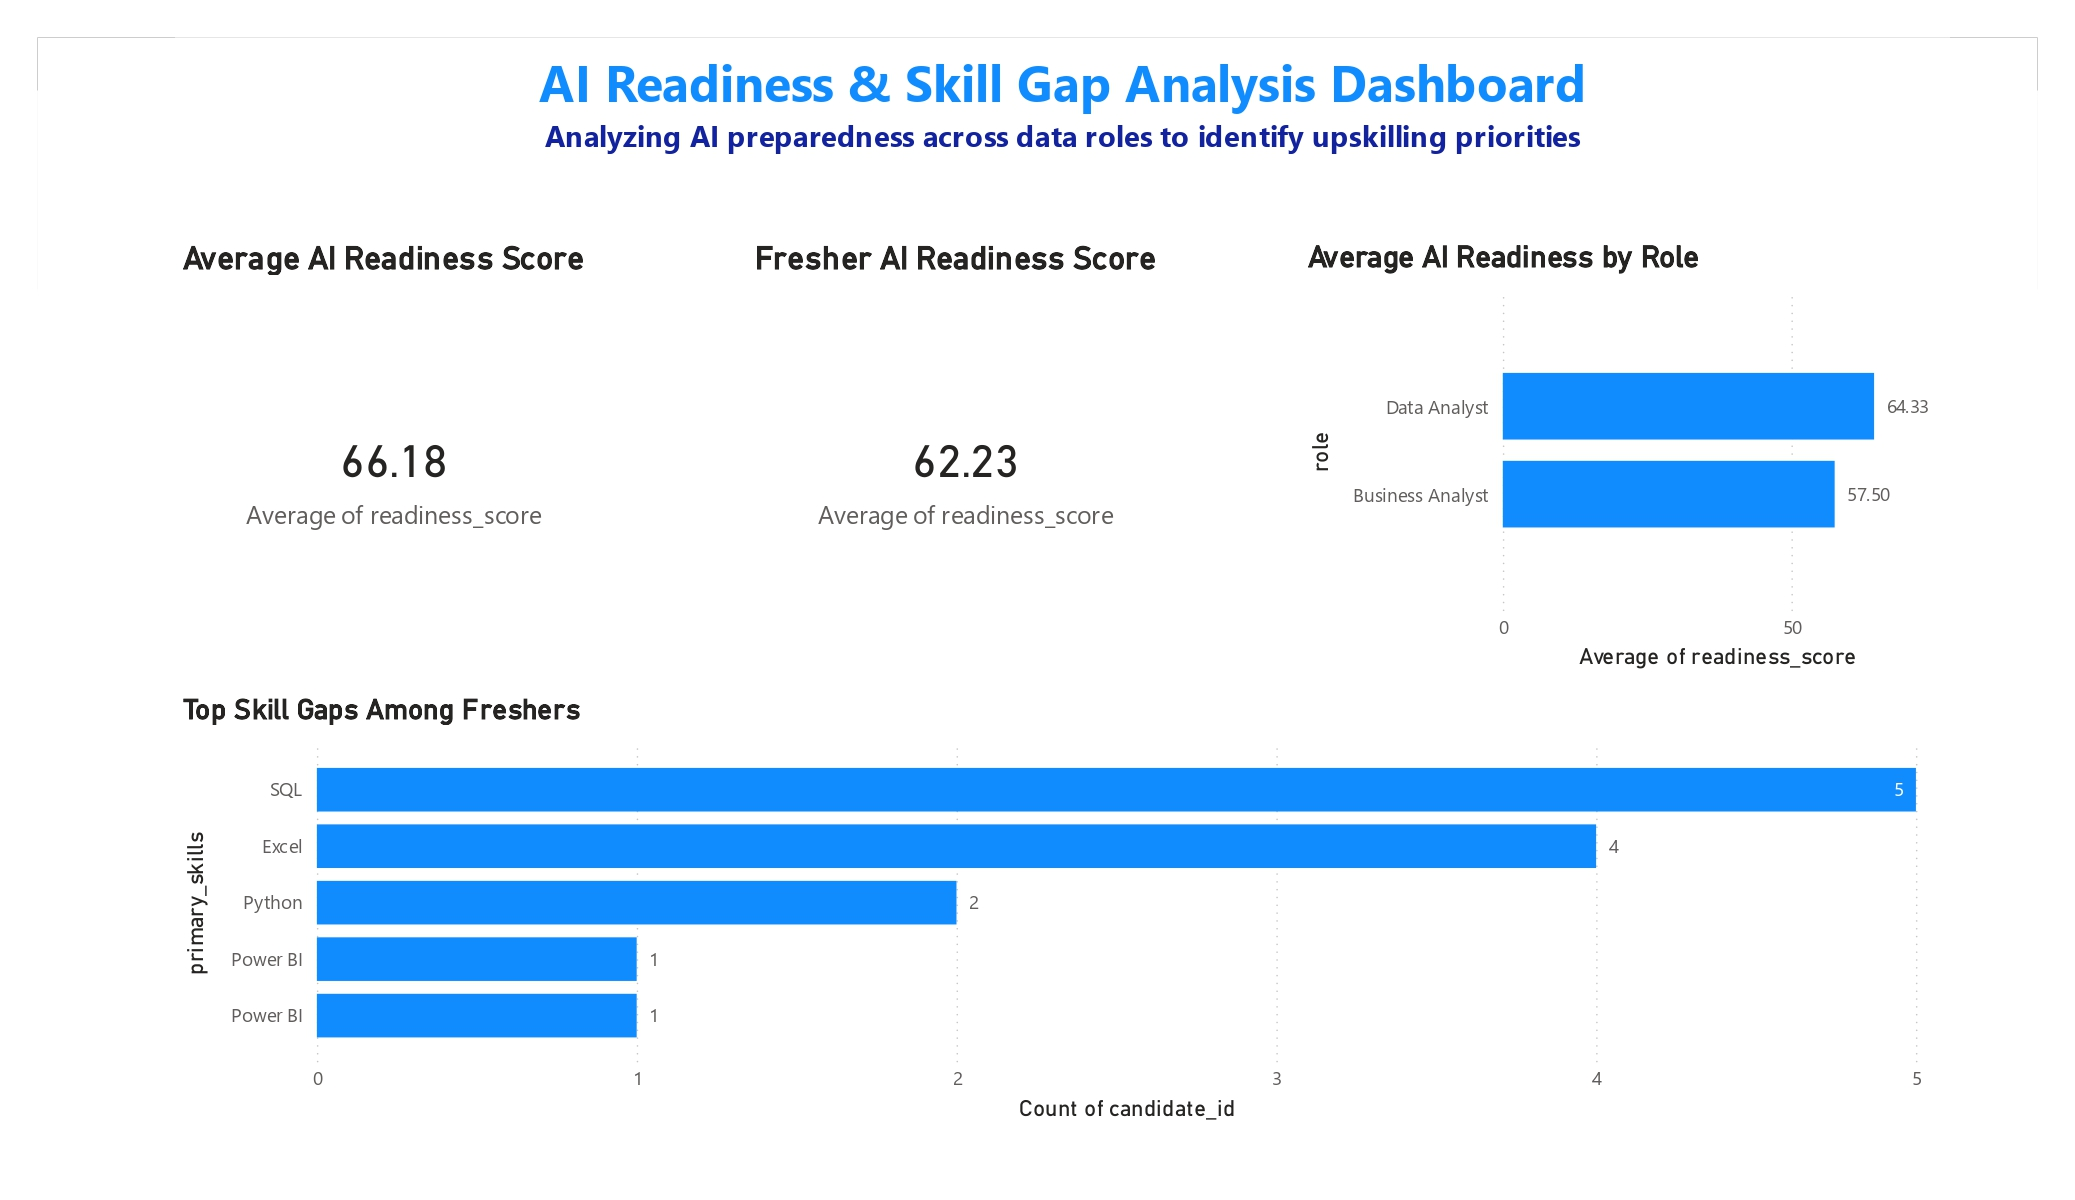

What the dashboard file says about the page in this screenshot:
{"tool":"powerbi","page":{"name":"Page 1","canvas":[1280,720],"ordinal":0},"visuals":[{"type":"card","title":"Average AI Readiness Score","fields":{"Values":["Avg(ai_readiness_skill_data.readiness_score)"]},"box":[87.8,129,279.9,279.9],"z":0},{"type":"card","title":"Fresher AI Readiness Score","fields":{"Values":["Avg(ai_readiness_skill_data.readiness_score)"]},"box":[454.2,129,279.9,279.9],"z":1000},{"type":"clusteredBarChart","title":"Average AI Readiness by Role","fields":{"Category":["ai_readiness_skill_data.role"],"Y":["Avg(ai_readiness_skill_data.readiness_score)"]},"box":[808.2,129,415.8,279.9],"z":1001},{"type":"textbox","box":[87.8,0,1136.2,94.7],"z":1002},{"type":"clusteredBarChart","title":"Top Skill Gaps Among Freshers","fields":{"Category":["ai_readiness_skill_data.primary_skills"],"Y":["CountNonNull(ai_readiness_skill_data.candidate_id)"]},"box":[87.8,418.5,1136.2,279.9],"z":1003}]}

Visuals, with their boxes in screenshot pixels (x1, y1, x2, y2):
"Average AI Readiness Score" card: (left=175, top=239, right=612, bottom=676)
"Fresher AI Readiness Score" card: (left=747, top=239, right=1185, bottom=676)
"Average AI Readiness by Role" clusteredBarChart: (left=1300, top=239, right=1950, bottom=676)
textbox: (left=175, top=38, right=1950, bottom=185)
"Top Skill Gaps Among Freshers" clusteredBarChart: (left=175, top=691, right=1950, bottom=1129)
